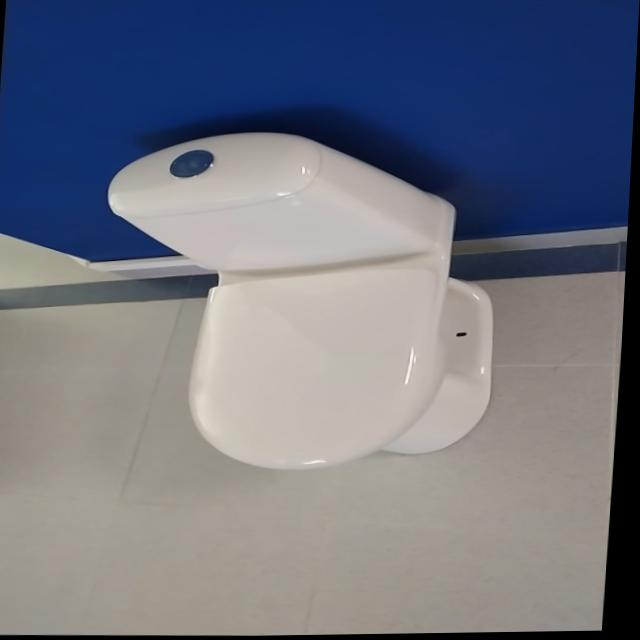toilet: (93, 126, 512, 477)
